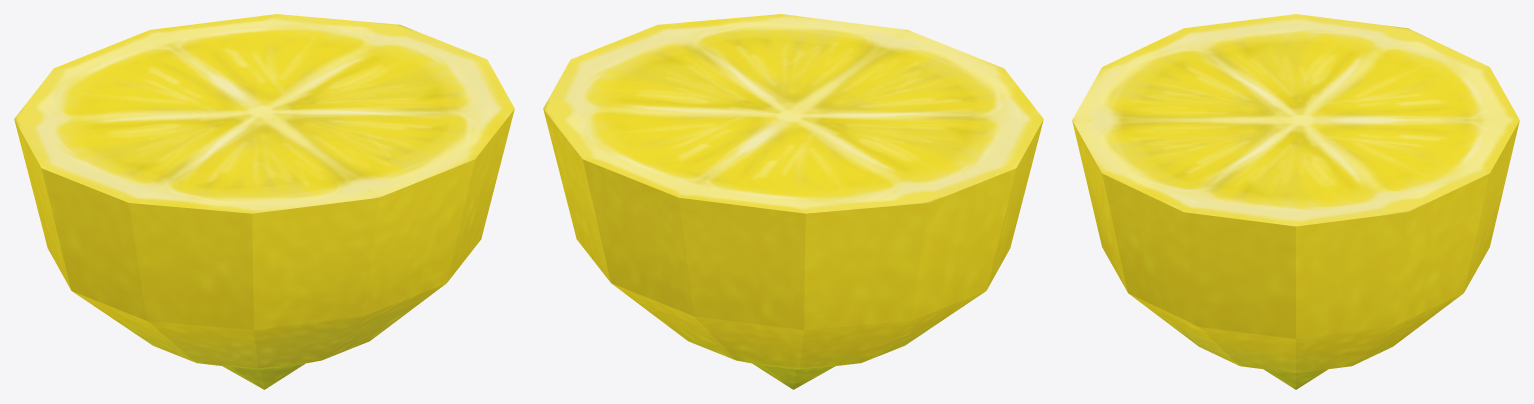
File: lemon_half.gltf
3 views of the same model, side by side, from view 1: azimuth 30°, elevation 25°; view 2: azimuth 150°, elevation 25°; view 3: azimuth 270°, elevation 25° (orthographic). The views are drawn at different scales.
Visible parts, largest first — view 1: fruis_and_vegetables.032; view 2: fruis_and_vegetables.032; view 3: fruis_and_vegetables.032.
Part boxes in pixels (x1=…): fruis_and_vegetables.032: x1=14, y1=14, x2=514, y2=389; fruis_and_vegetables.032: x1=543, y1=14, x2=1043, y2=389; fruis_and_vegetables.032: x1=1072, y1=14, x2=1519, y2=389.
Bounding box in the file's own units: 0.0805 × 0.0477 × 0.0717.
Materials: 1 (1 with a texture image).
